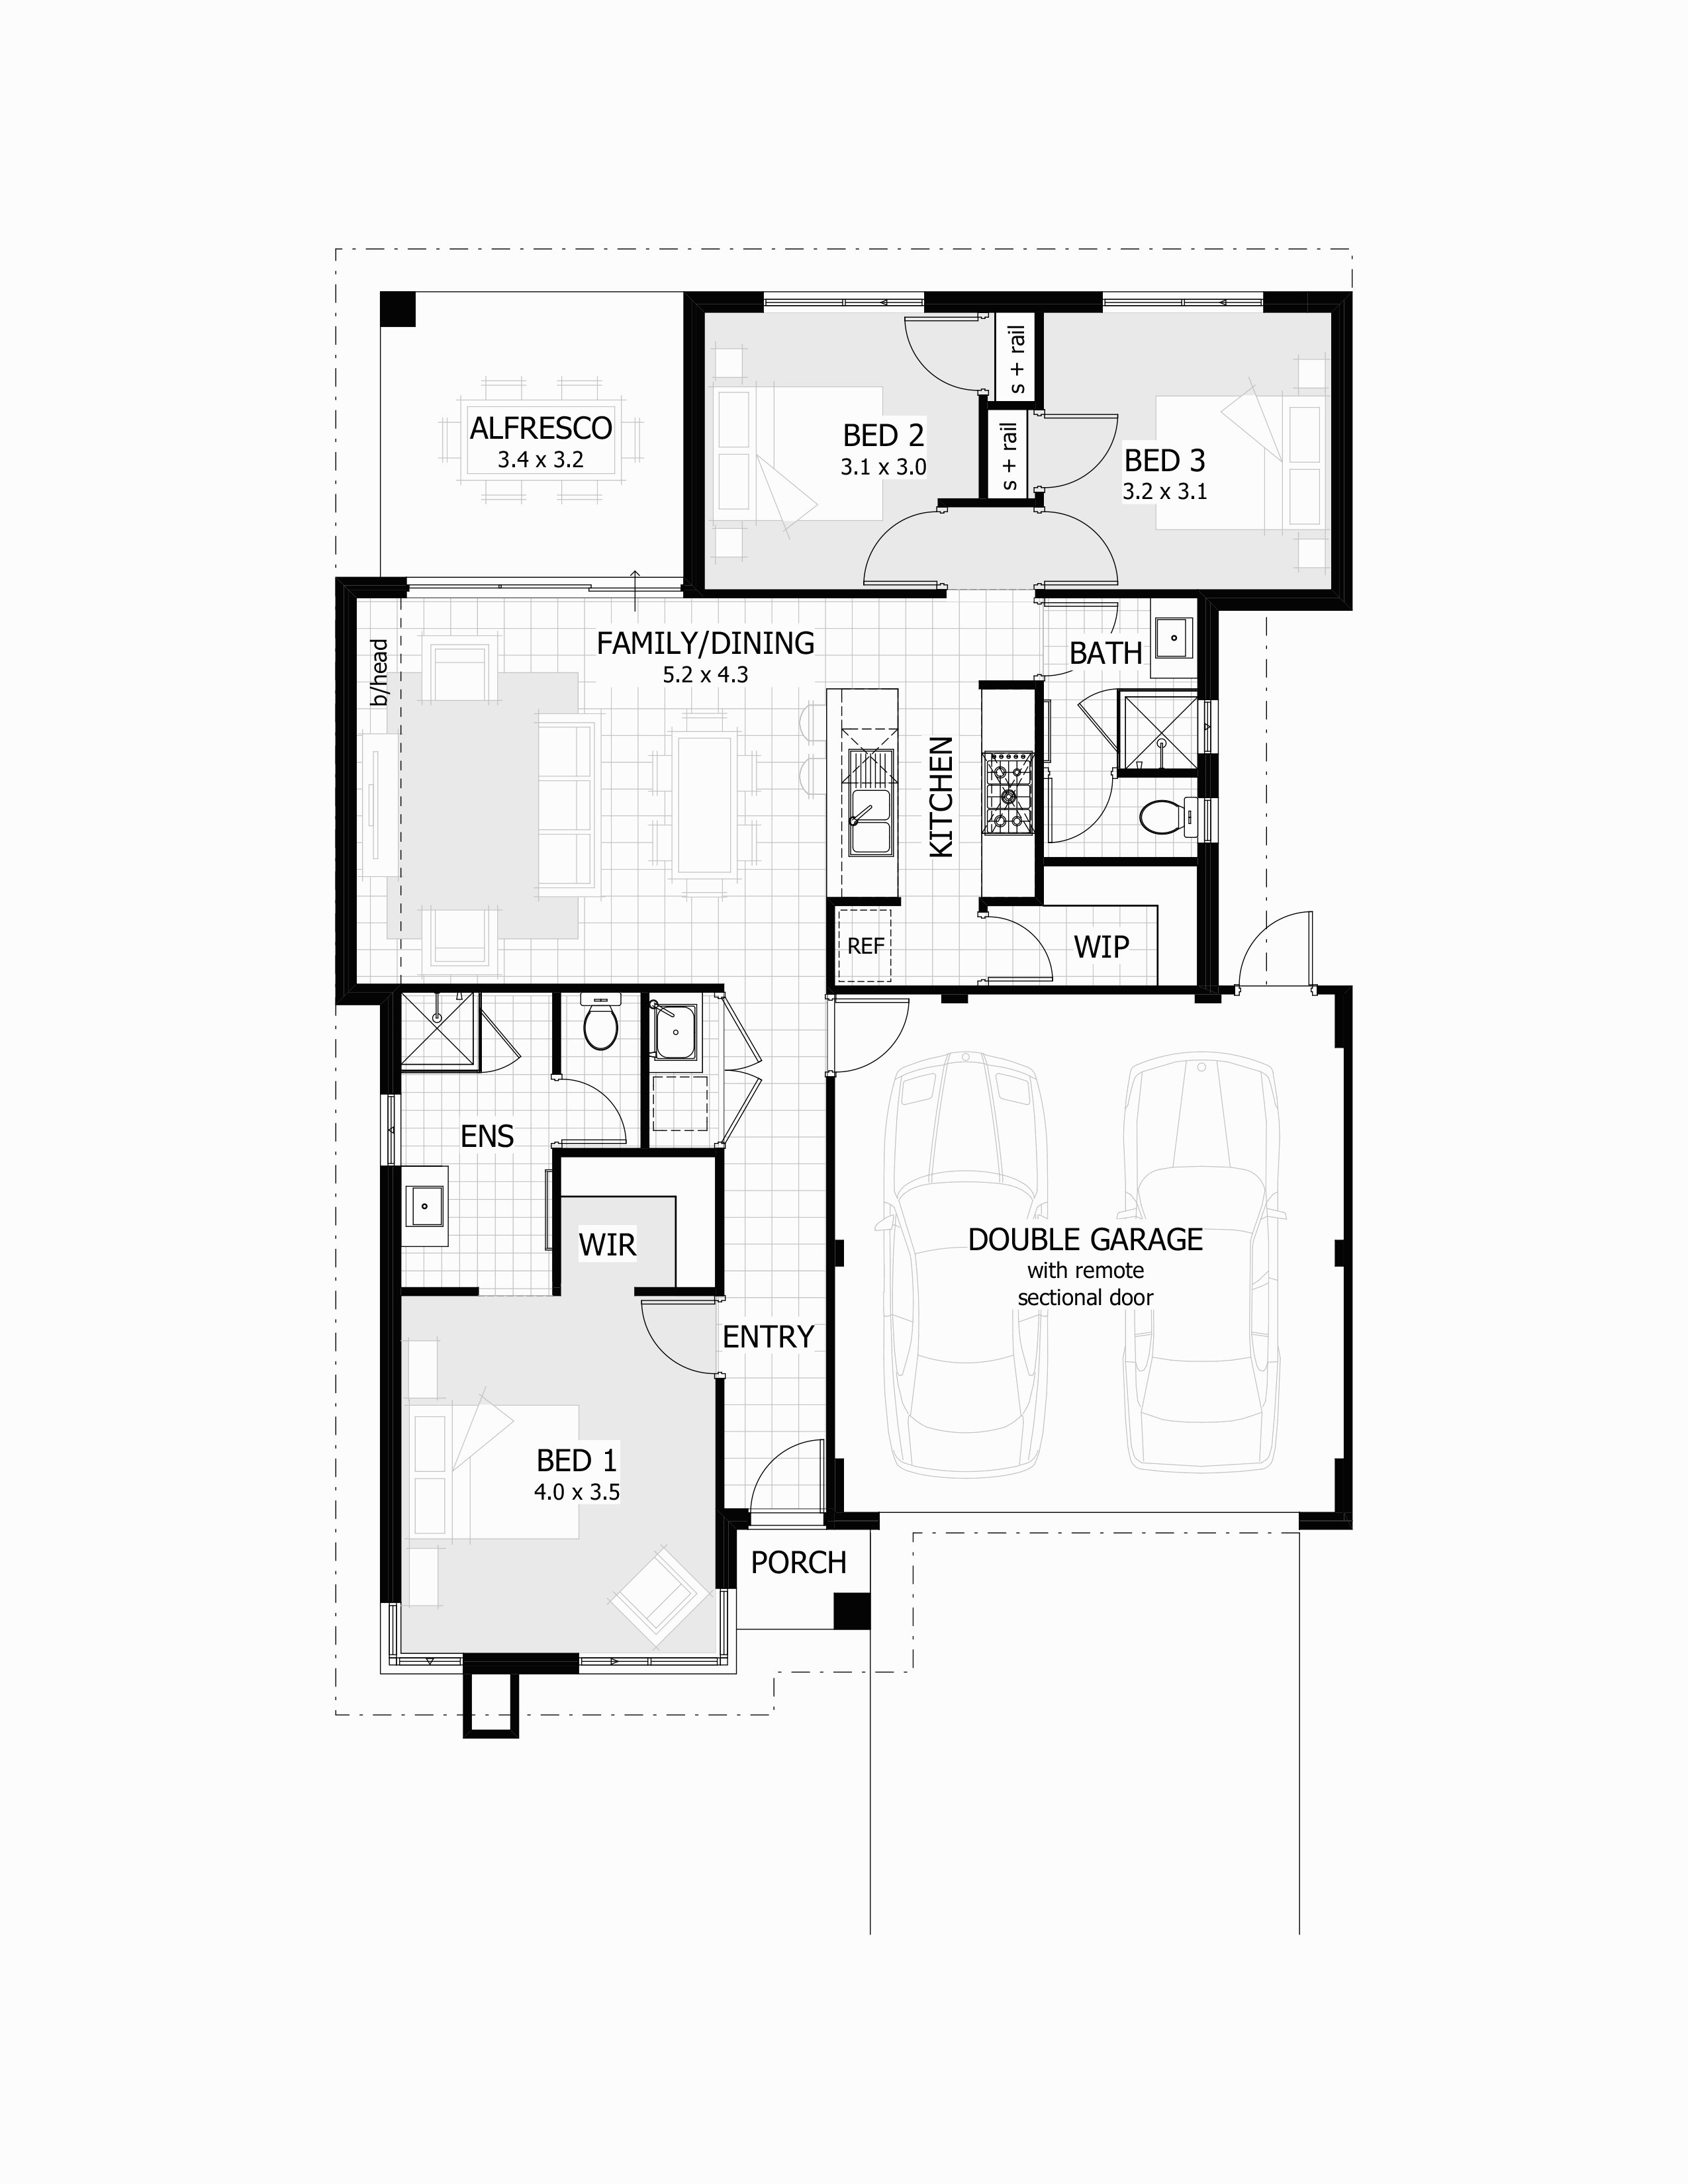window: (402, 574, 688, 599), (1099, 287, 1266, 316), (761, 289, 927, 316), (374, 1092, 402, 1168), (578, 1656, 722, 1666), (1195, 697, 1220, 755), (1197, 796, 1222, 844), (718, 1588, 729, 1659), (395, 1656, 465, 1666), (387, 1601, 399, 1659)
